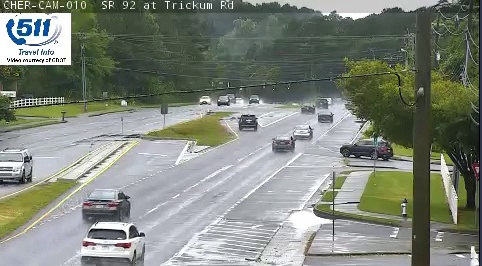car: (82, 222, 146, 263), (82, 189, 130, 217), (272, 136, 294, 151), (239, 114, 258, 129), (294, 126, 313, 139), (318, 112, 333, 124)
